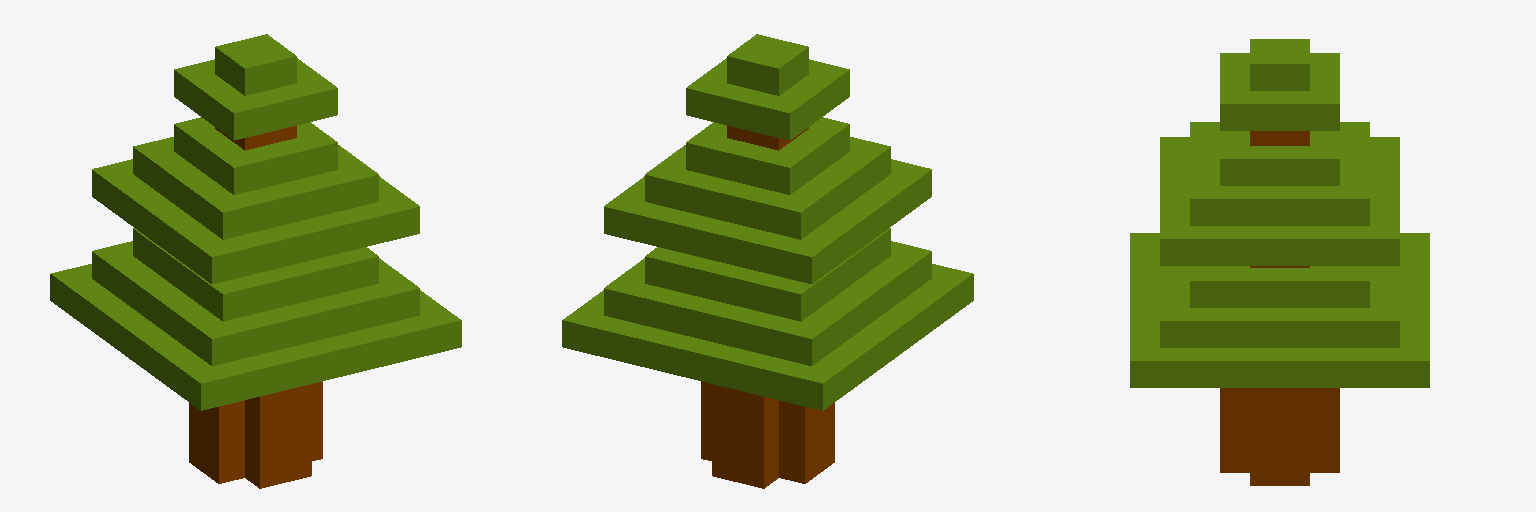
3 views of the same model, side by side, from view 1: azimuth 30°, elevation 25°; view 2: azimuth 150°, elevation 25°; view 3: azimuth 270°, elevation 25° (orthographic).
Visible parts, largest first — view 1: object 1; view 2: object 1; view 3: object 1.
Boxes of the visible parts, <box> form: object 1: <box>50,34,461,488</box>; object 1: <box>562,34,973,488</box>; object 1: <box>1130,39,1429,485</box>.
Size of the model in its own units: 1 by 1.5 by 1.
Materials: 1 (1 with a texture image).